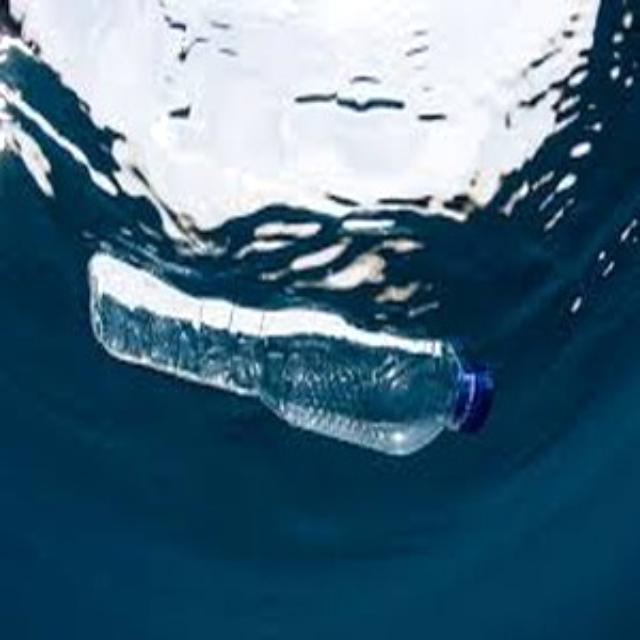Plastic: (90, 246, 474, 459)
